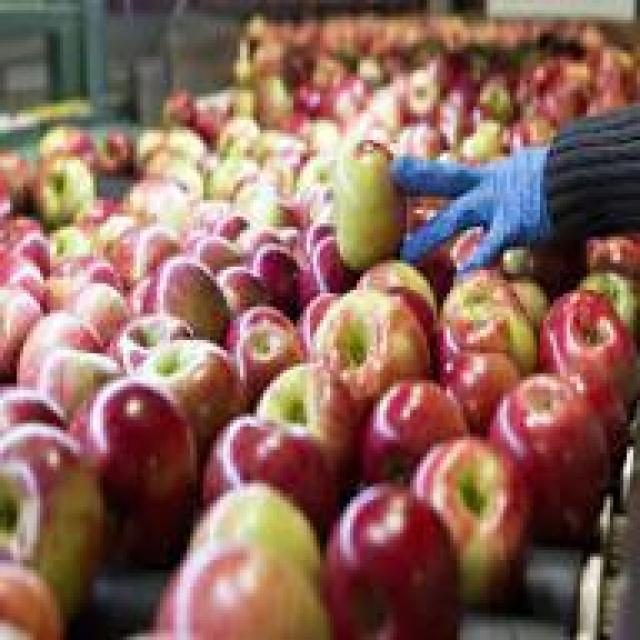apple: (67, 387, 200, 553), (327, 486, 463, 636), (483, 364, 617, 514), (407, 427, 533, 580), (204, 410, 334, 527), (330, 140, 427, 287), (317, 273, 440, 387), (256, 357, 366, 473), (443, 263, 537, 380), (544, 290, 634, 397), (146, 253, 236, 347)
